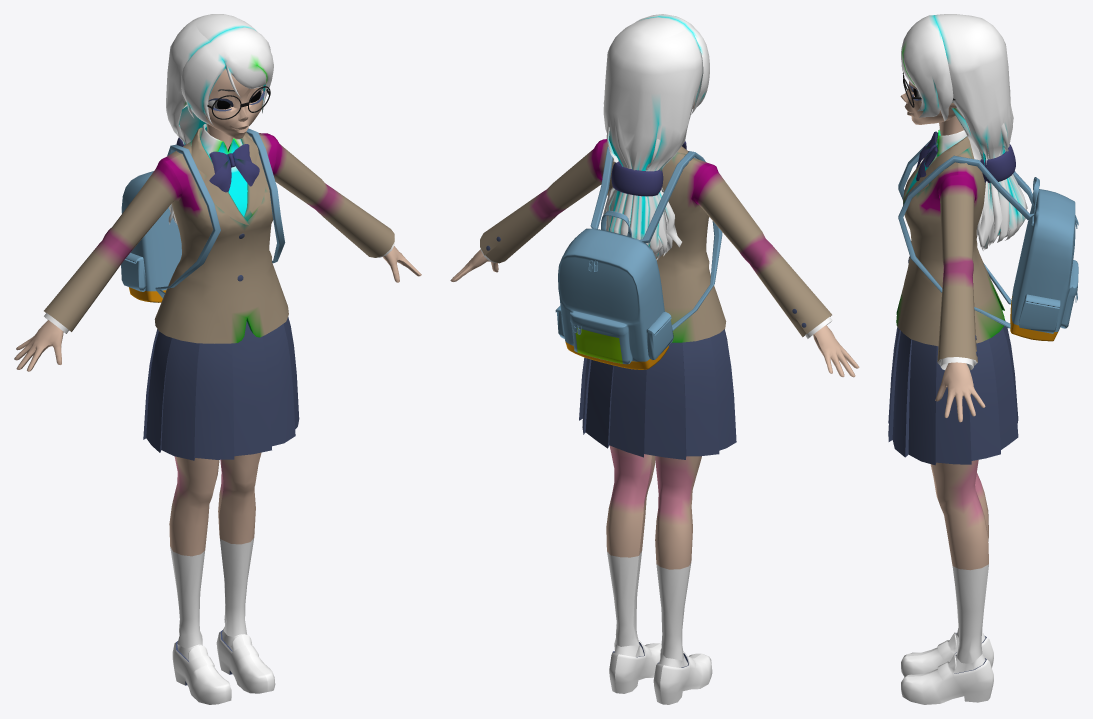
File: first_class_girl_fbx.fbx
3 views of the same model, side by side, from view 1: azimuth 30°, elevation 25°; view 2: azimuth 150°, elevation 25°; view 3: azimuth 270°, elevation 25° (orthographic).
Visible parts, largest first — view 1: polySurface29, polySurface17, hair, bag:base2:bag:polySurface33, polySurface81; view 2: polySurface29, hair, bag:base2:bag:polySurface33, polySurface17, pTorus2; view 3: polySurface29, hair, polySurface17, bag:base2:bag:polySurface33, polySurface81, pTorus2.
Part boxes in pixels (x1,y1,x2,y2): polySurface29: [14, 124, 421, 704]; polySurface17: [143, 317, 299, 460]; hair: [166, 14, 273, 224]; bag:base2:bag:polySurface33: [121, 128, 285, 302]; polySurface81: [205, 69, 263, 150]; polySurface29: [450, 139, 859, 704]; hair: [603, 14, 709, 260]; bag:base2:bag:polySurface33: [555, 146, 722, 369]; polySurface17: [579, 329, 736, 459]; pTorus2: [611, 161, 663, 196]; polySurface29: [896, 129, 1004, 704]; hair: [901, 14, 1027, 250]; polySurface17: [888, 320, 1018, 465]; bag:base2:bag:polySurface33: [898, 132, 1078, 341]; polySurface81: [900, 81, 963, 135]; pTorus2: [980, 144, 1015, 182].
Bounding box in the file's own units: 7.13 × 11.22 × 2.9.
